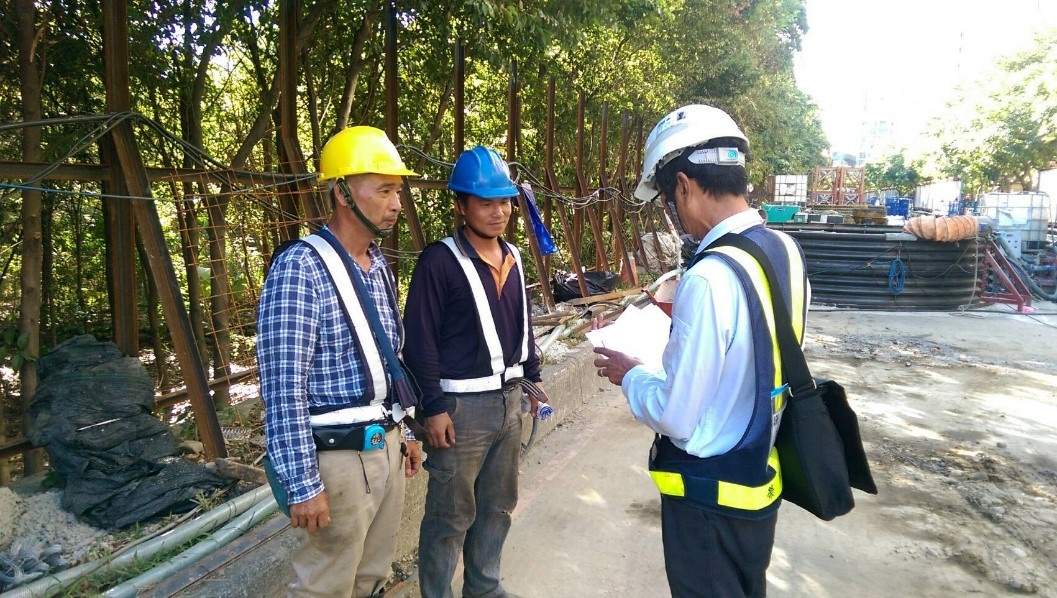blue: (444, 143, 523, 241)
white: (634, 103, 755, 236)
yellow: (313, 117, 412, 242)
